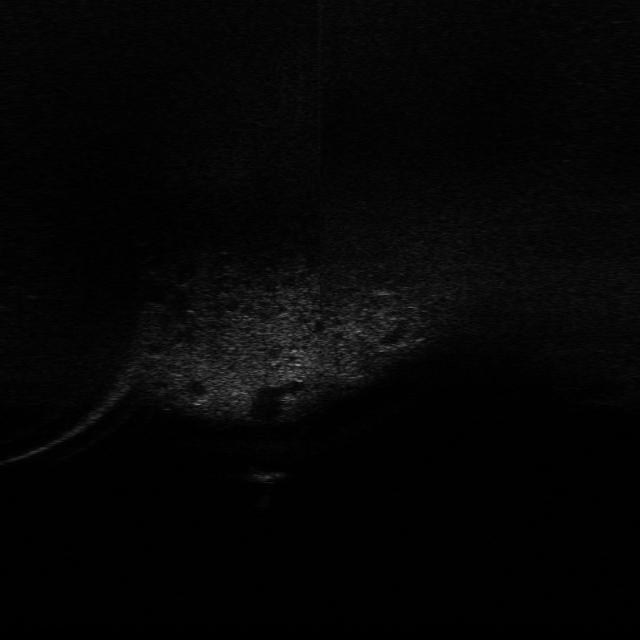cube: (239, 460, 292, 484)
